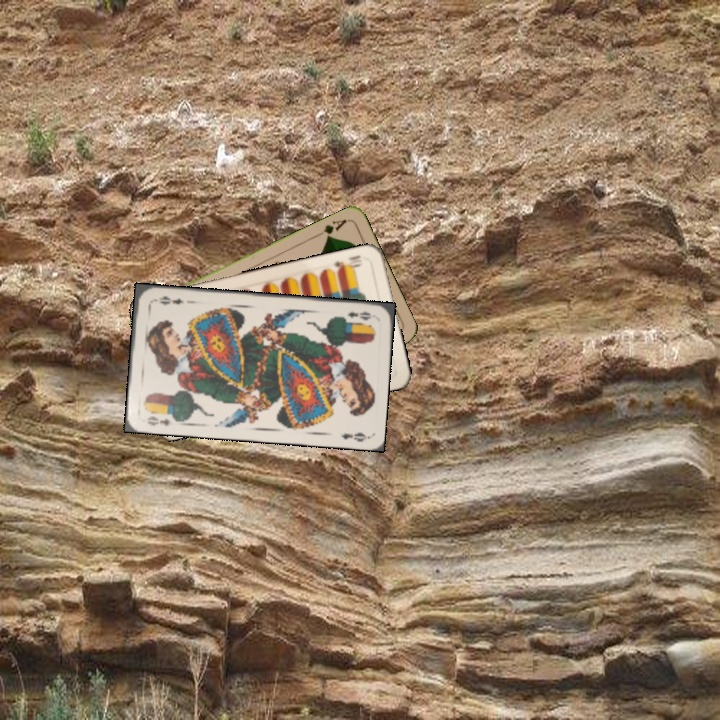E10: (328, 251, 364, 274)
EO: (143, 412, 175, 429), (344, 307, 374, 323)
GA: (312, 215, 349, 242)
